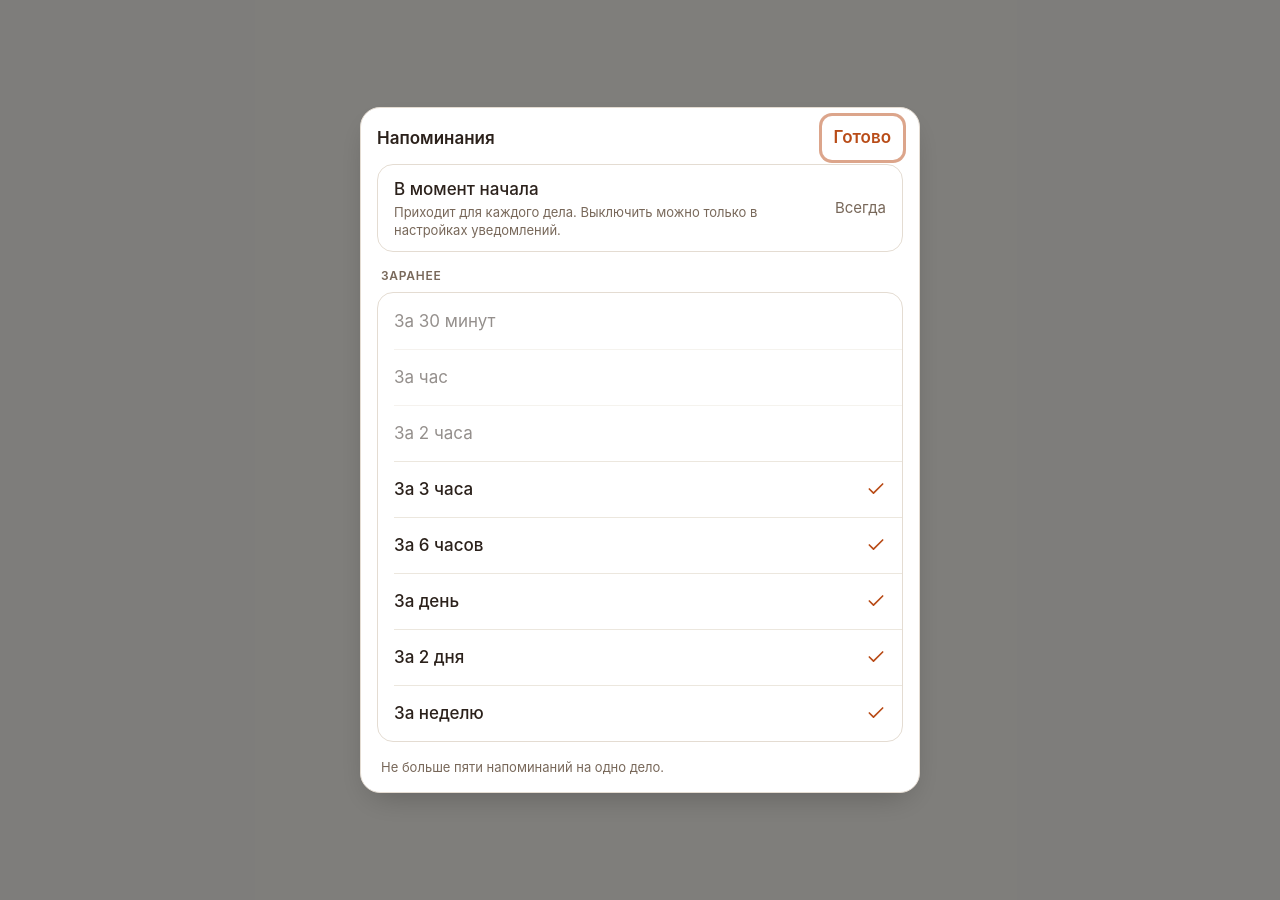
Test case: reminders › stops at five, and lets the five already chosen be undone
Expected: the checkbox labelled "За час" is disabled, left=378, top=349, right=902, bottom=405
Click the checkbox labelled "За день" at {"x": 427, "y": 601}, box left=378, top=573, right=902, bottom=629
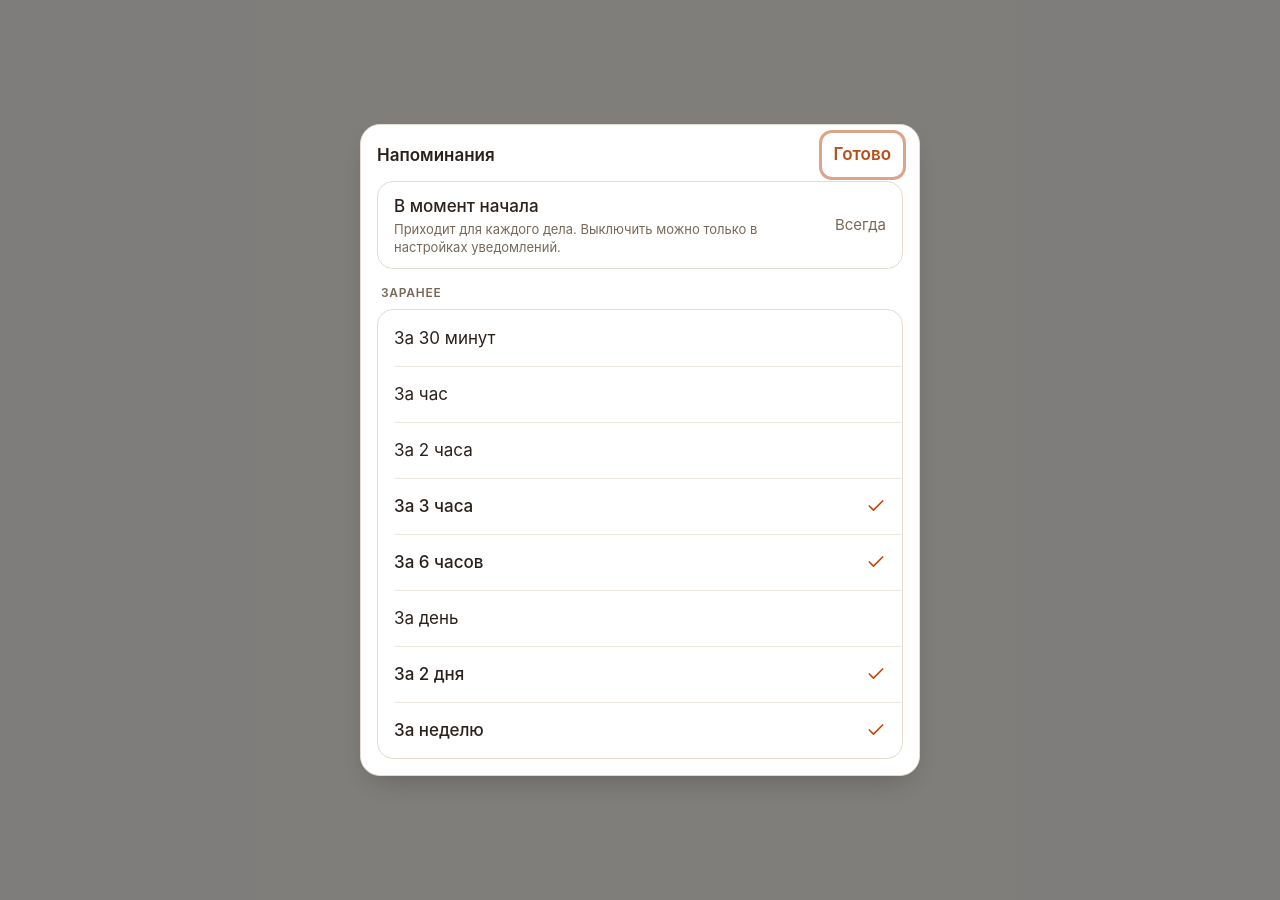
Expected: the checkbox labelled "За час" is enabled, left=378, top=366, right=902, bottom=422
